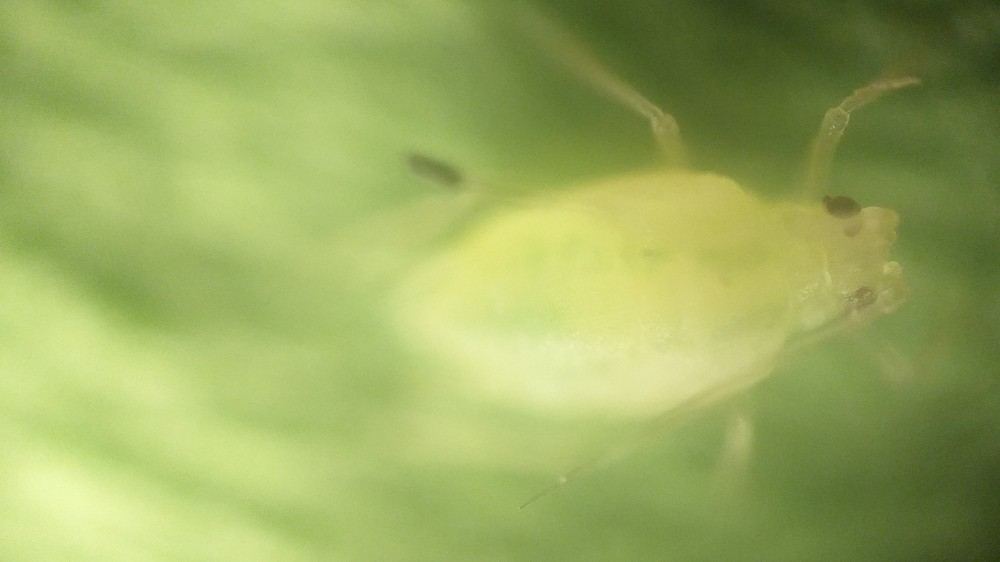Pulgon: (297, 19, 996, 532)
